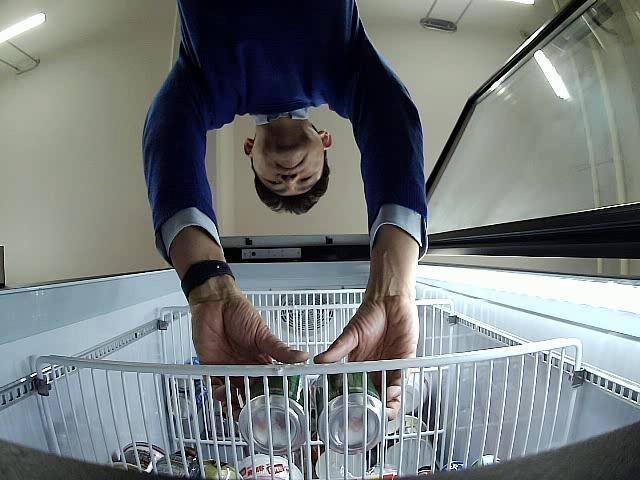12_chilsungCider: (312, 372, 388, 456), (239, 376, 308, 456)
